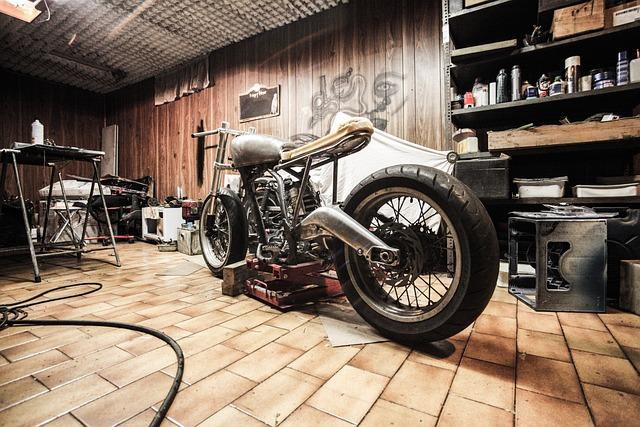Non_Gorille: (173, 77, 542, 360)
